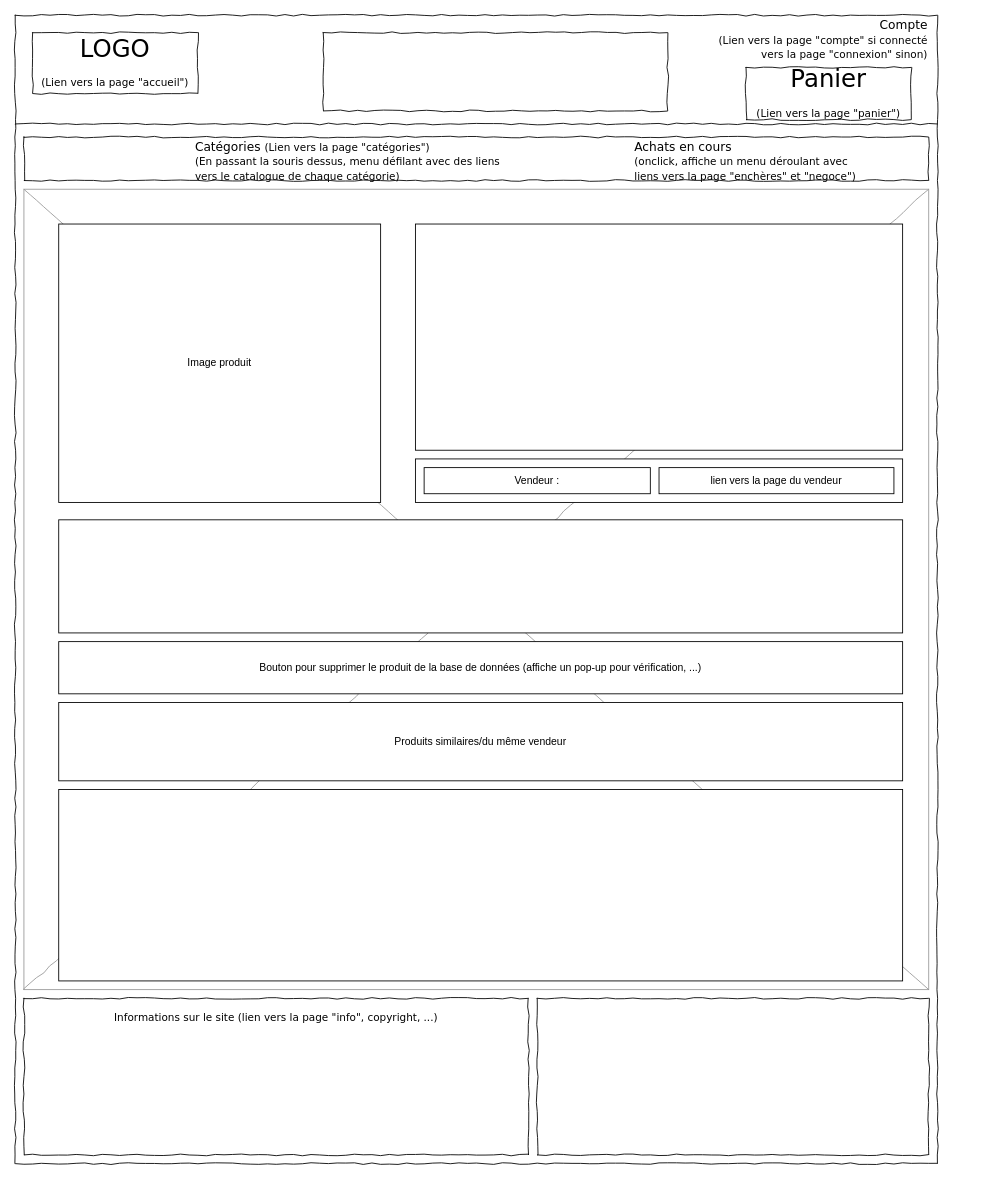
The diagram is 996 pixels wide and 1179 high, and some of its shapes have lost their labels. Each missing label, with the centre of its shape:
Bienvenue ...: (x=495, y=71)
Description brève: (x=659, y=336)
Description complète: (x=480, y=885)
Nous contacter: (x=732, y=1076)
Options d'achat: (x=480, y=576)
